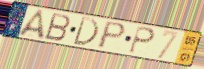7: (155, 29, 181, 61)
A: (16, 8, 46, 41)
B: (43, 11, 72, 42)
D: (71, 15, 100, 48)
P: (95, 20, 128, 50), (127, 25, 157, 55)
